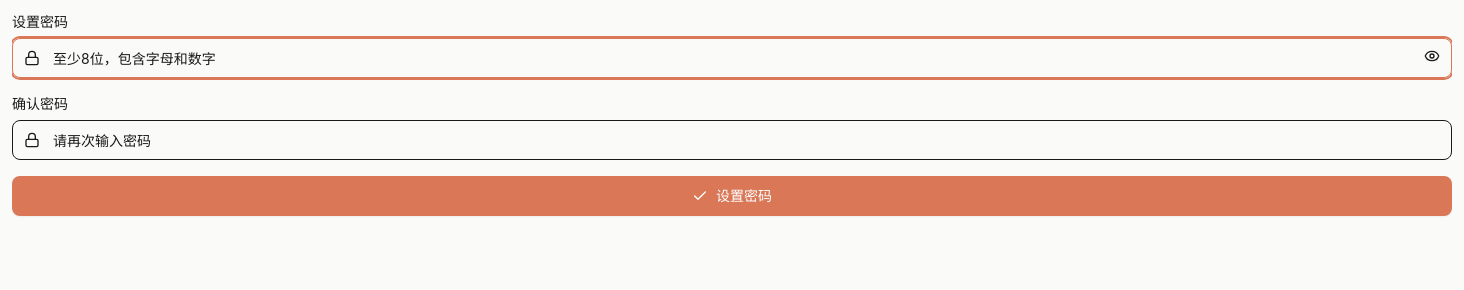
Test case: SetPasswordForm 组件 › 两次密码不一致 - 显示错误
Type "abcd1234" into the password field with placeholder "至少8位，包含字母和数字" at [732, 58], box x1=12 y1=38 x2=1452 y2=78
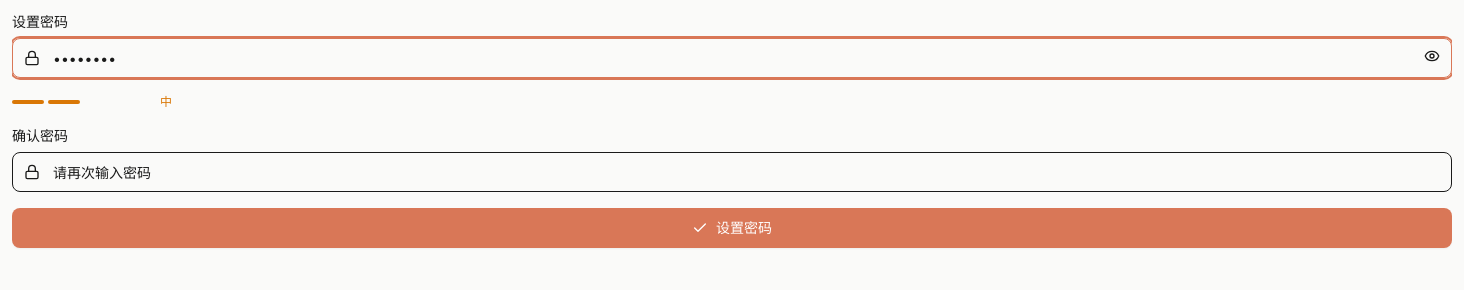
Type "abcd5678" into the password field with placeholder "请再次输入密码" at [732, 172], box x1=12 y1=152 x2=1452 y2=192
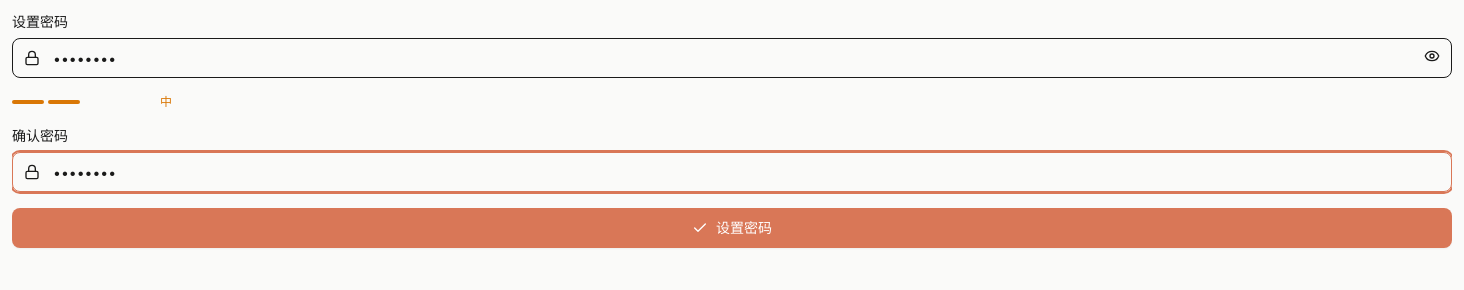
Click the button "设置密码" at [732, 228], box x1=12 y1=208 x2=1452 y2=248
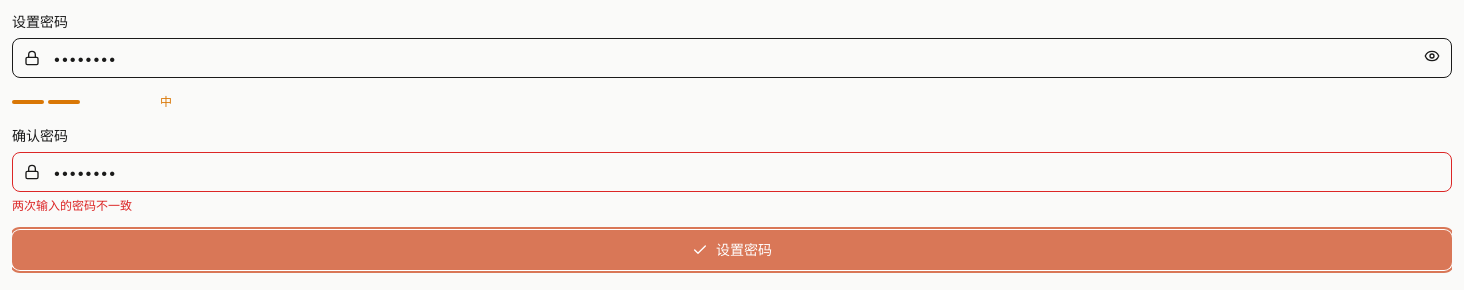
Check: the text "两次输入的密码不一致" is shown, box x1=12 y1=198 x2=132 y2=213
